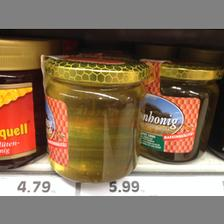Honig: (42, 51, 142, 192), (140, 58, 220, 170)
